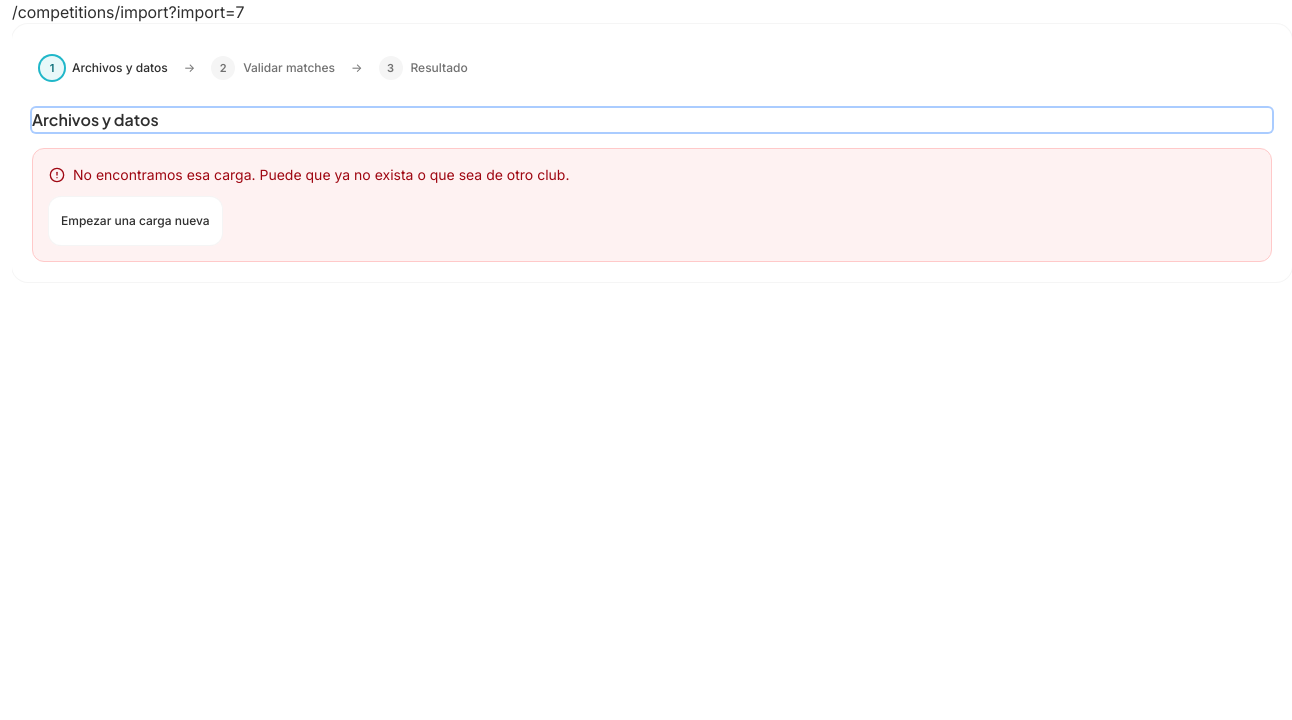
Test: ImportWizard — retomar una carga (feature 045, US3) › carga inexistente o de otro club (404): avisa sin exponer más y permite empezar de nuevo
Check: the message shows "No encontramos esa carga.", box top-left (73, 166), bottom-right (570, 183)
Click the button with test id "resume-start-new". click: (135, 221)
box: top-left (49, 197), bottom-right (222, 245)
(page scrolled)
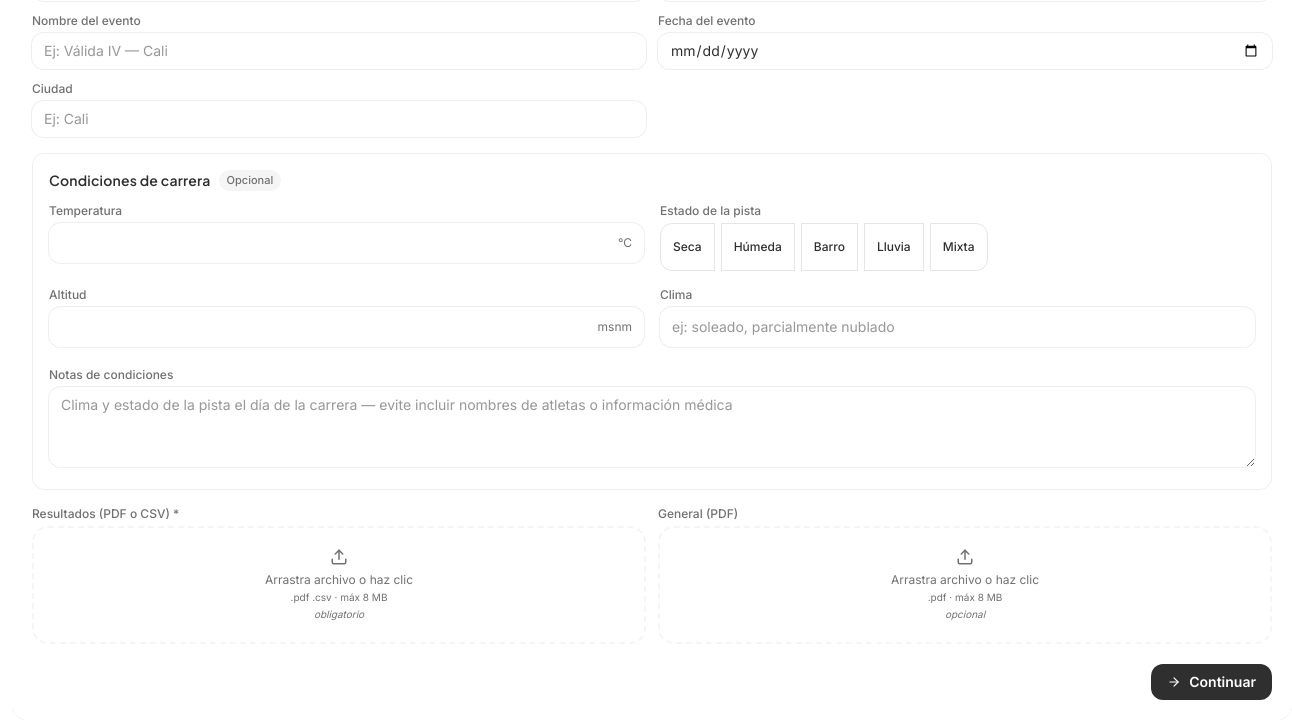
Check: the button with test id "wizard-step1-submit" is shown, box top-left (1151, 664), bottom-right (1272, 700)
